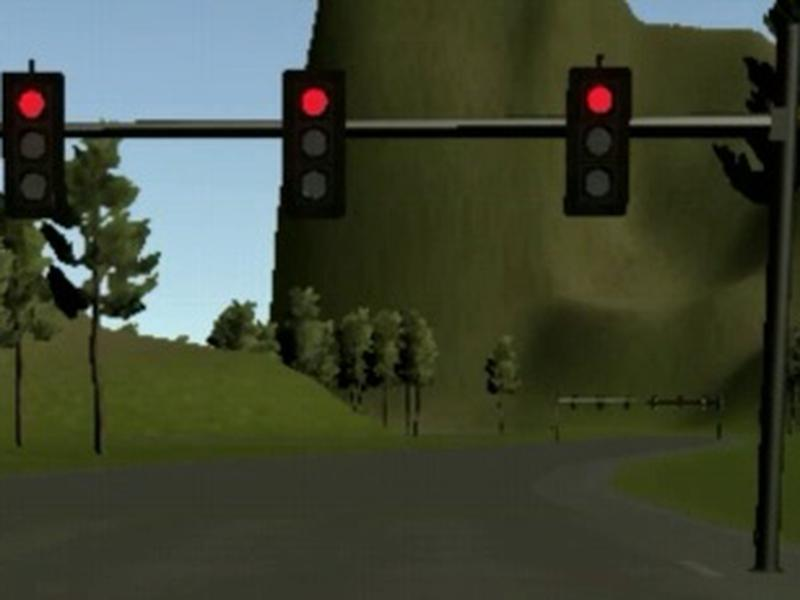Red: (564, 65, 630, 215), (281, 69, 346, 220), (2, 73, 65, 213)
